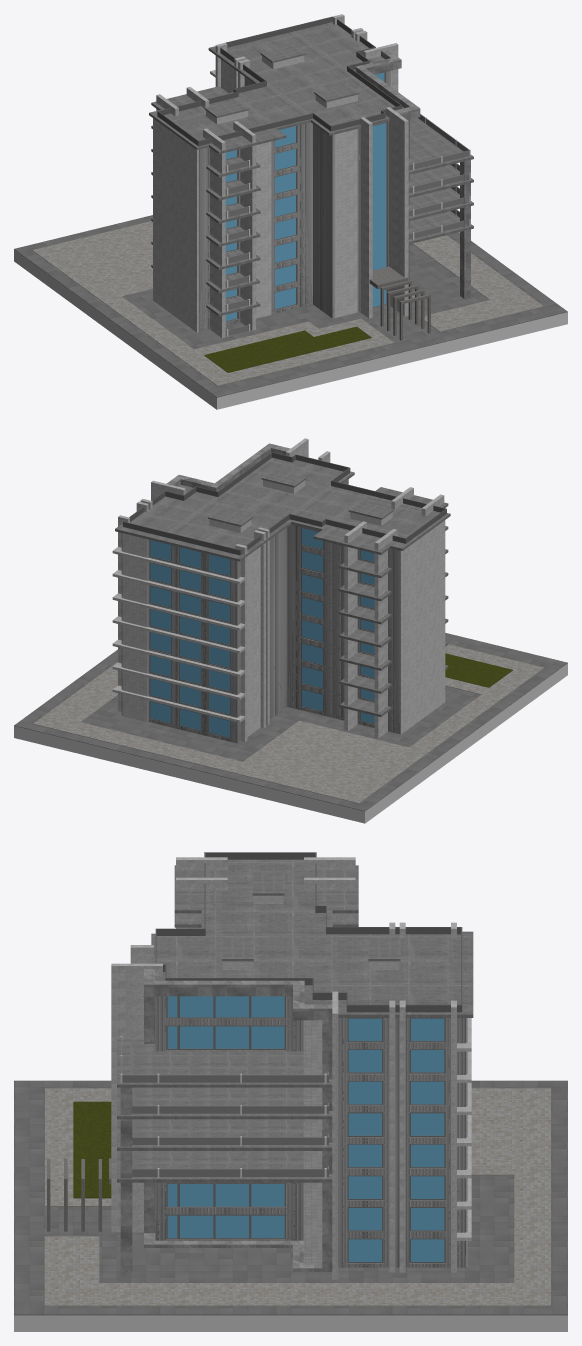
File: appartament.glb
The picture shows the model from 3 angles, top to bottom: view 1: azimuth 30°, elevation 25°; view 2: azimuth 150°, elevation 25°; view 3: azimuth 270°, elevation 25°; orthographic projection. The views are drawn at different scales.
Parts seen in each view (by area): view 1: Line007, Box044, Line001, Shape009, Box070, Box045, Box072, Box005, Line013, Line008, Box011, Box071 (+13 smaller); view 2: Line001, Line007, Box044, Shape009, Box070, Box045, Box074, Line013, Box075, Box021, Box022, Box036 (+17 smaller); view 3: Box044, Line007, Shape009, Line001, Box045, Box008, Box001, Box002, Box005, Box003, Box004, Line013 (+48 smaller).
Part boxes in pixels (x1=…): Line007: x1=32, y1=221, x2=543, y2=385; Box044: x1=14, y1=215, x2=567, y2=397; Line001: x1=198, y1=71, x2=409, y2=331; Shape009: x1=149, y1=22, x2=403, y2=149; Box070: x1=153, y1=118, x2=198, y2=332; Box045: x1=14, y1=249, x2=567, y2=409; Box072: x1=334, y1=129, x2=357, y2=317; Box005: x1=386, y1=107, x2=408, y2=316; Line013: x1=157, y1=16, x2=402, y2=146; Line008: x1=204, y1=326, x2=371, y2=372; Box011: x1=203, y1=128, x2=225, y2=337; Box071: x1=256, y1=141, x2=271, y2=318; Line001: x1=121, y1=479, x2=400, y2=743; Line007: x1=33, y1=644, x2=543, y2=803; Box044: x1=14, y1=633, x2=567, y2=811; Shape009: x1=115, y1=457, x2=450, y2=561; Box070: x1=400, y1=520, x2=445, y2=734; Box045: x1=14, y1=663, x2=567, y2=823; Box074: x1=122, y1=533, x2=148, y2=722; Line013: x1=123, y1=452, x2=446, y2=555; Box075: x1=247, y1=547, x2=260, y2=736; Box021: x1=374, y1=529, x2=397, y2=738; Box022: x1=344, y1=521, x2=366, y2=730; Box036: x1=235, y1=544, x2=247, y2=741; Box044: x1=14, y1=1080, x2=567, y2=1315; Line007: x1=44, y1=1088, x2=550, y2=1305; Shape009: x1=151, y1=859, x2=473, y2=1017; Line001: x1=155, y1=996, x2=466, y2=1267; Box045: x1=14, y1=1315, x2=567, y2=1331; Box008: x1=144, y1=969, x2=332, y2=1271; Box001: x1=117, y1=1039, x2=332, y2=1087; Box002: x1=117, y1=1087, x2=332, y2=1119; Box005: x1=111, y1=963, x2=162, y2=1232; Box003: x1=117, y1=1119, x2=332, y2=1150; Box004: x1=117, y1=1151, x2=332, y2=1182; Line013: x1=155, y1=852, x2=462, y2=1012.
Size of the model in its own units: 4767 by 2702 by 4769.
16 materials, 10 textured.
